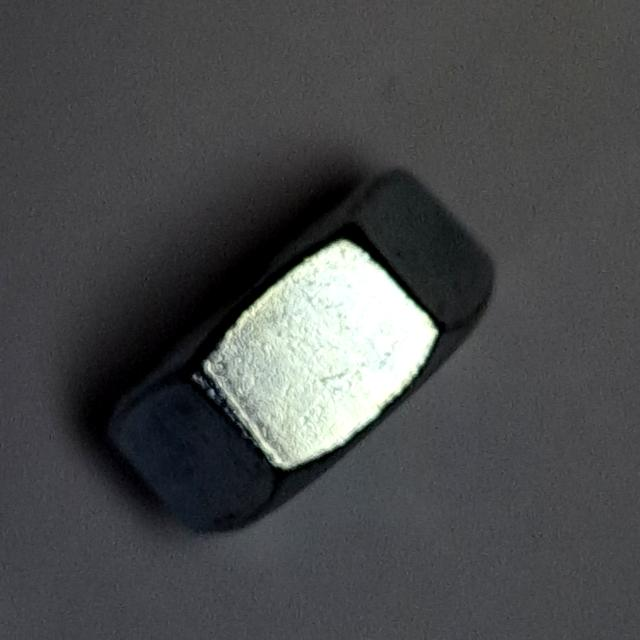Side_Excellent: (96, 153, 521, 542)
